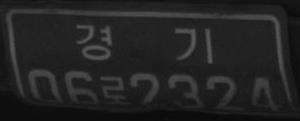0: (26, 67, 64, 106)
2: (205, 73, 248, 113), (131, 71, 167, 109)
3: (166, 71, 205, 111)
4: (248, 75, 284, 113)
6: (64, 69, 100, 107)
경기_D: (74, 22, 215, 65)
로: (100, 73, 131, 106)
